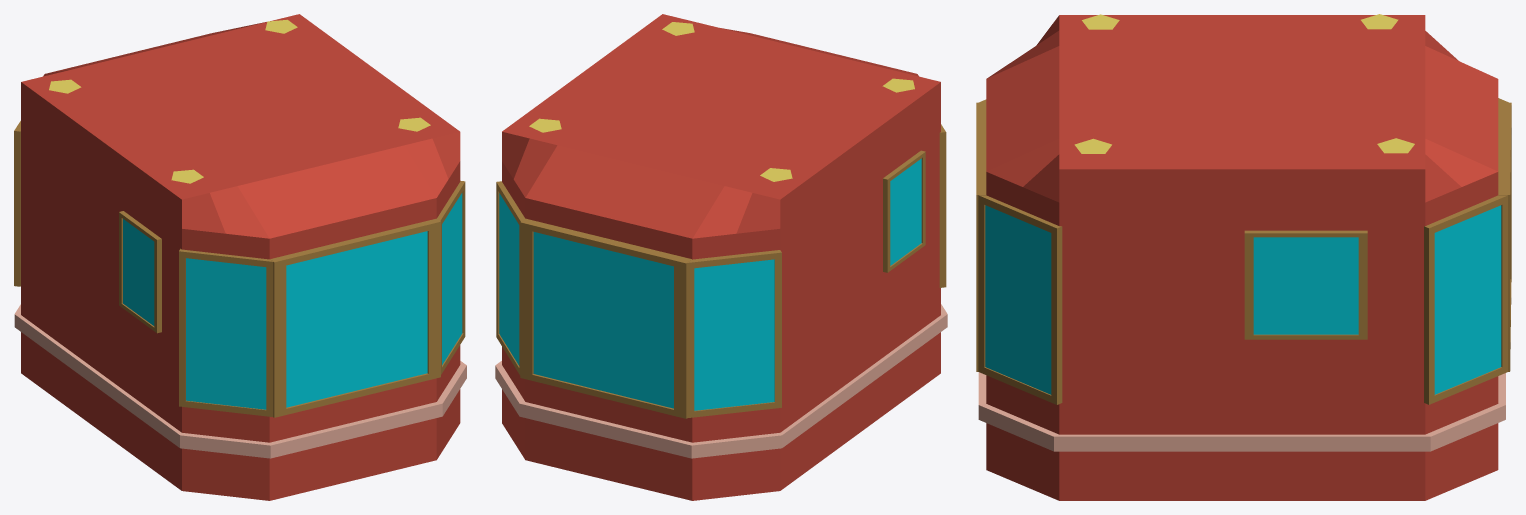
Rendered from blok merah.glb.
3 renders of one model, left to right at view 1: azimuth 30°, elevation 25°; view 2: azimuth 150°, elevation 25°; view 3: azimuth 270°, elevation 25°, orthographic. The views are drawn at different scales.
Visible parts, largest first — view 1: Cube.022, Cube.019, Cube.018, Cube.021, Cube.017, Circle.004, Cube.014; view 2: Cube.022, Cube.016, Cube.014, Cube.021, Cube.015, Circle.004, Cube.018; view 3: Cube.022, Cube.017, Cube.015, Cube.020, Cube.016, Circle.004, Cube.019.
Part boxes in pixels (left/top/right/bottom): Cube.022: left=14, top=14, right=466, bottom=500; Cube.019: left=270, top=218, right=440, bottom=417; Cube.018: left=179, top=248, right=273, bottom=416; Cube.021: left=119, top=211, right=161, bottom=333; Cube.017: left=437, top=180, right=465, bottom=374; Circle.004: left=49, top=19, right=430, bottom=183; Cube.014: left=14, top=121, right=20, bottom=286; Cube.022: left=495, top=14, right=947, bottom=500; Cube.016: left=520, top=218, right=691, bottom=418; Cube.014: left=687, top=250, right=781, bottom=418; Cube.021: left=883, top=150, right=925, bottom=272; Cube.015: left=496, top=181, right=525, bottom=375; Circle.004: left=529, top=22, right=914, bottom=181; Cube.018: left=939, top=124, right=946, bottom=287; Cube.022: left=978, top=15, right=1505, bottom=500; Cube.017: left=978, top=195, right=1062, bottom=404; Cube.015: left=1424, top=195, right=1507, bottom=404; Cube.020: left=1244, top=230, right=1367, bottom=339; Cube.016: left=1498, top=102, right=1511, bottom=371; Circle.004: left=1074, top=14, right=1414, bottom=153; Cube.019: left=976, top=102, right=986, bottom=371.
Size of the model in its own units: 2.07 by 2.03 by 2.93.
